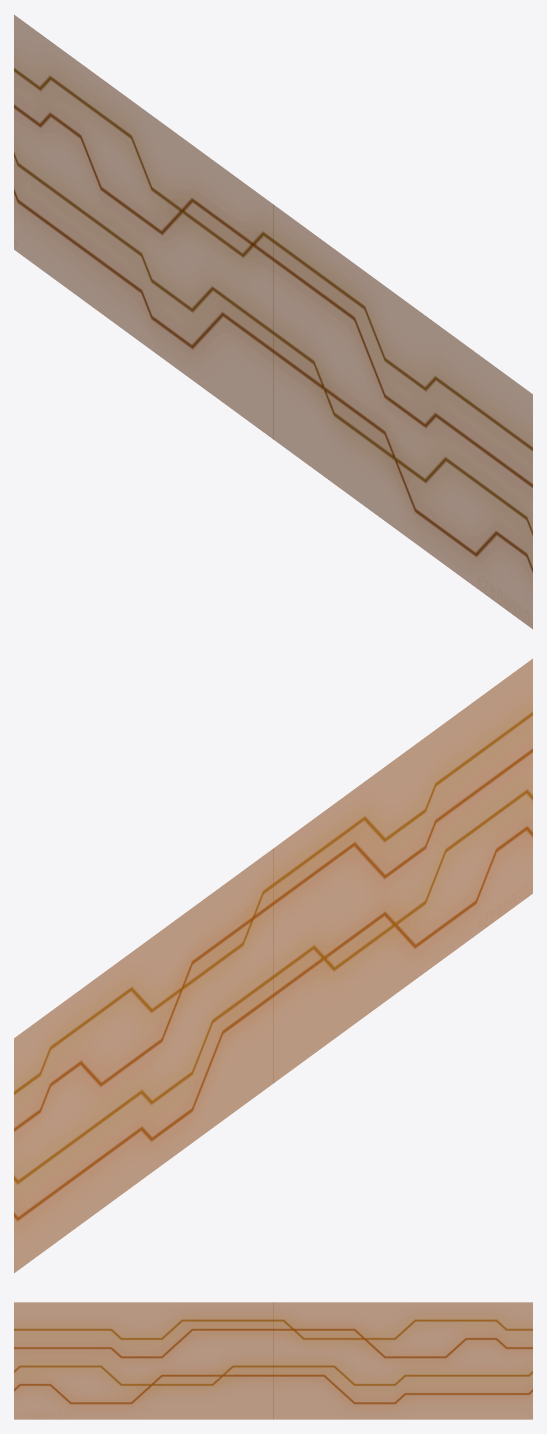
The picture shows the model from 3 angles, top to bottom: view 1: azimuth 30°, elevation 25°; view 2: azimuth 150°, elevation 25°; view 3: azimuth 270°, elevation 25°; orthographic projection. The views are drawn at different scales.
Parts seen in each view (by area): view 1: zipper_effect.png__; view 2: zipper_effect.png__; view 3: zipper_effect.png__.
Boxes of the visible parts, <box> form: zipper_effect.png__: <box>14,15,532,628</box>; zipper_effect.png__: <box>14,659,532,1272</box>; zipper_effect.png__: <box>14,1302,532,1419</box>.
Size of the model in its own units: 2.38e-07 by 4 by 16.
Materials: 1 (1 with a texture image).
